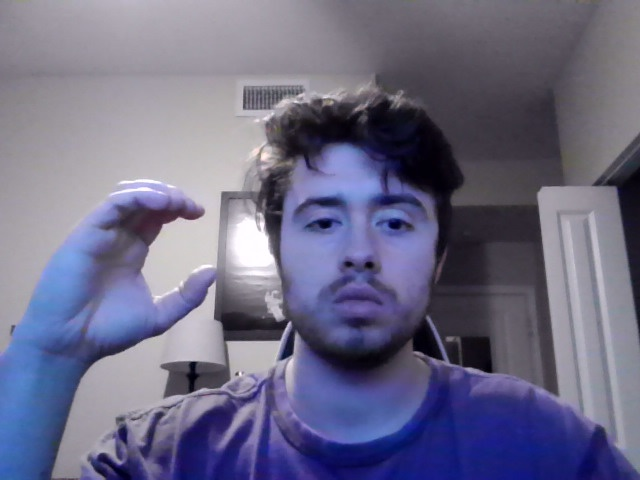c: (16, 178, 219, 370)
